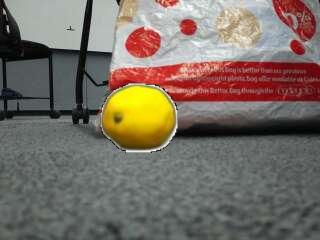lemon: (103, 87, 175, 151)
